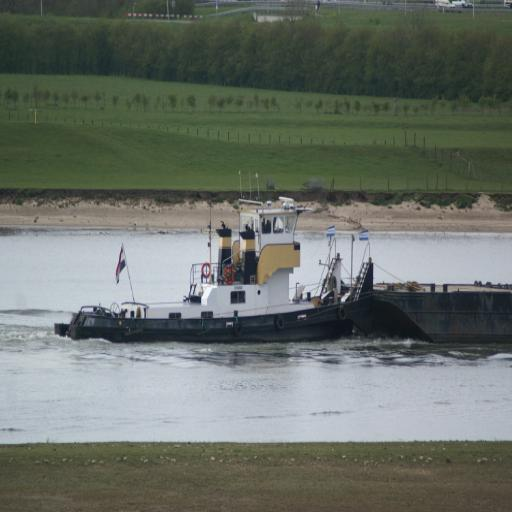tugboat: (49, 186, 380, 354)
